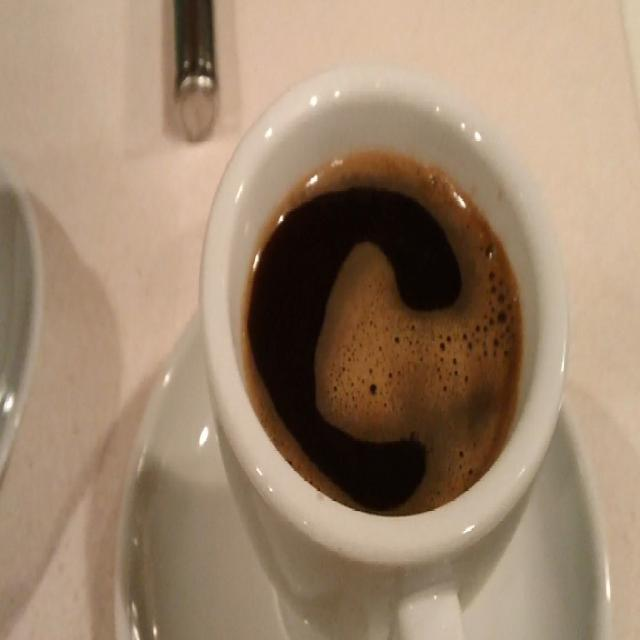Coffee: (243, 158, 518, 516)
